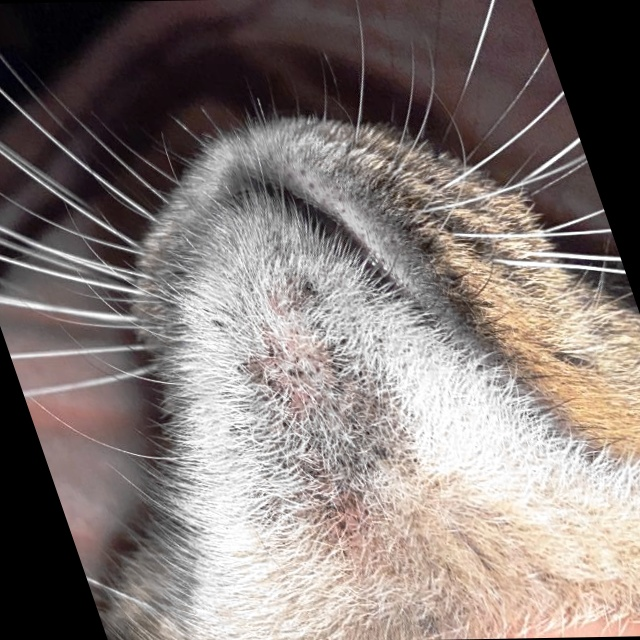acne: (174, 223, 459, 552)
